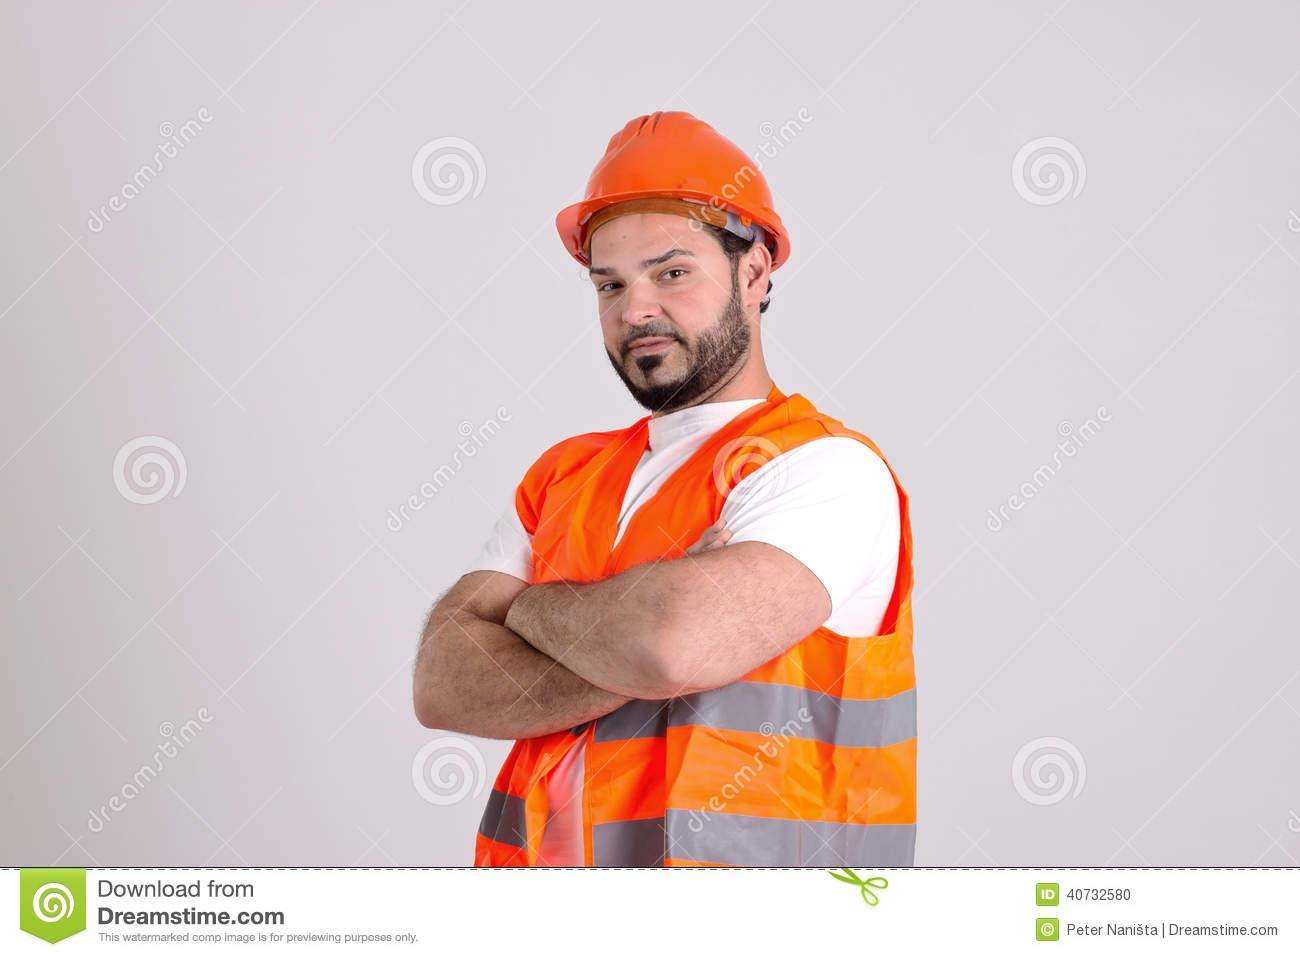helmet: (549, 111, 791, 271)
wear: (489, 422, 912, 868)
